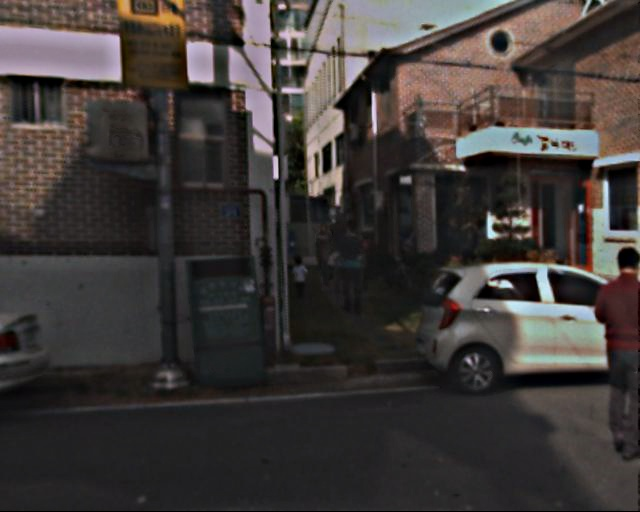person: (575, 247, 640, 459), (333, 219, 373, 317), (308, 222, 340, 293), (288, 254, 309, 301)
